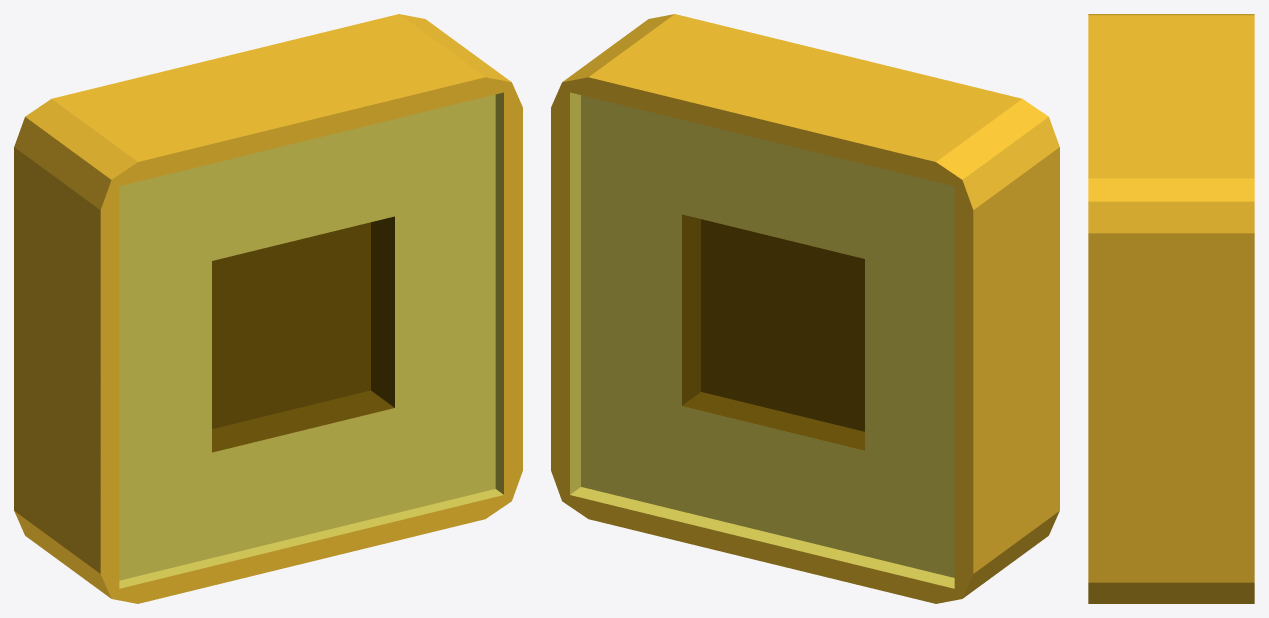
The model's file is coin.fbx.
The picture shows the model from 3 angles, left to right: view 1: azimuth 30°, elevation 25°; view 2: azimuth 150°, elevation 25°; view 3: azimuth 270°, elevation 25°; orthographic projection. The views are drawn at different scales.
Visible parts, largest first — view 1: Cube; view 2: Cube; view 3: Cube.
Part boxes in pixels (x1,y1,x2,y2): Cube: [14, 14, 522, 603]; Cube: [551, 14, 1059, 603]; Cube: [1088, 14, 1254, 603].
Bounding box in the file's own units: 10.05 × 10.05 × 3.56.
